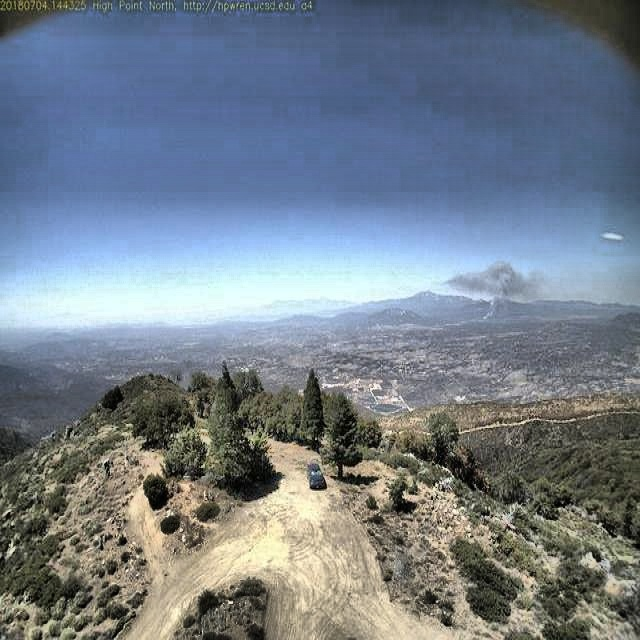smoke: (438, 260, 541, 325)
